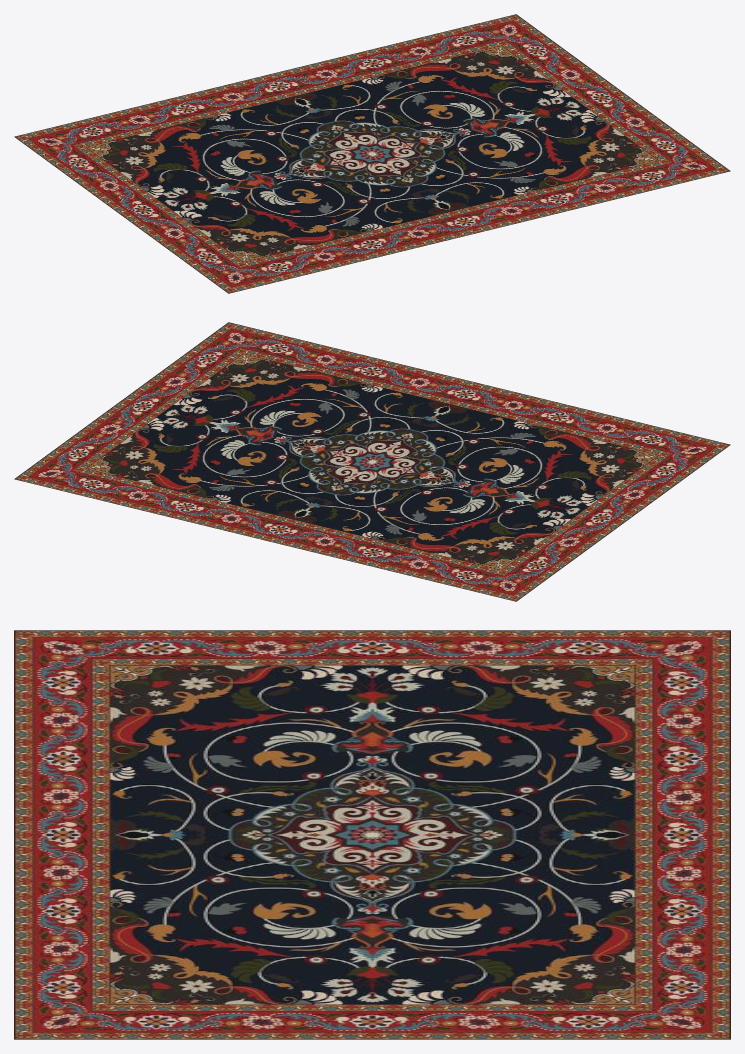
The model's file is Carpet.fbx.
The picture shows the model from 3 angles, top to bottom: view 1: azimuth 30°, elevation 25°; view 2: azimuth 150°, elevation 25°; view 3: azimuth 270°, elevation 25°; orthographic projection. The views are drawn at different scales.
Parts seen in each view (by area): view 1: pPlane1; view 2: pPlane1; view 3: pPlane1.
Part boxes in pixels (left/top/right/bottom): pPlane1: left=14, top=14, right=730, bottom=293; pPlane1: left=14, top=322, right=730, bottom=601; pPlane1: left=14, top=630, right=730, bottom=1039.
Size of the model in its own units: 71.12 by 0 by 52.62.
Materials: 1 (1 with a texture image).
